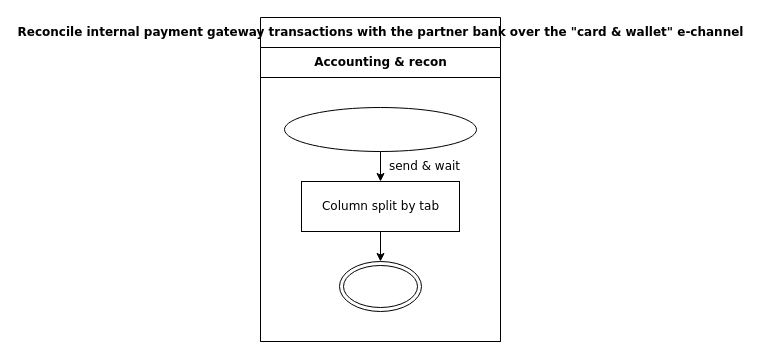
Some shapes in this 760 by 359 pixel diagram are drawn without their labels. The centre of each missing label's shape, as x and y in pixels:
Done: [380,286]
Receive "recon" file: [380,129]
